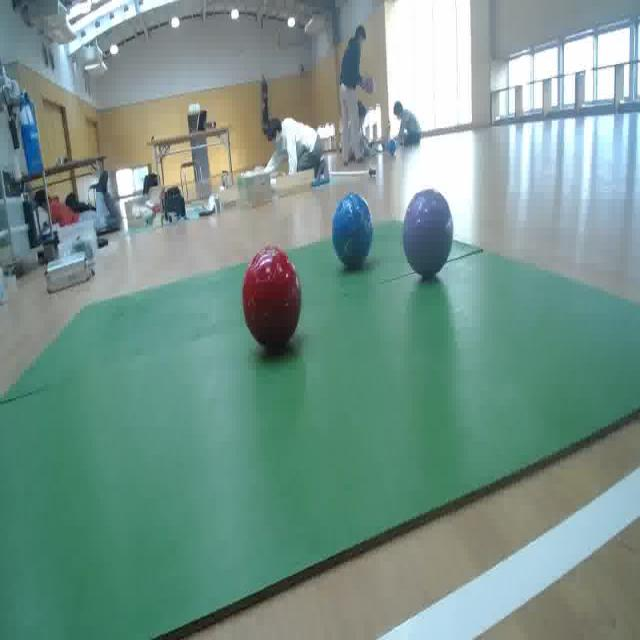blue_ball: (332, 194, 372, 268)
purple_ball: (400, 186, 456, 280)
red_ball: (243, 245, 304, 350)
